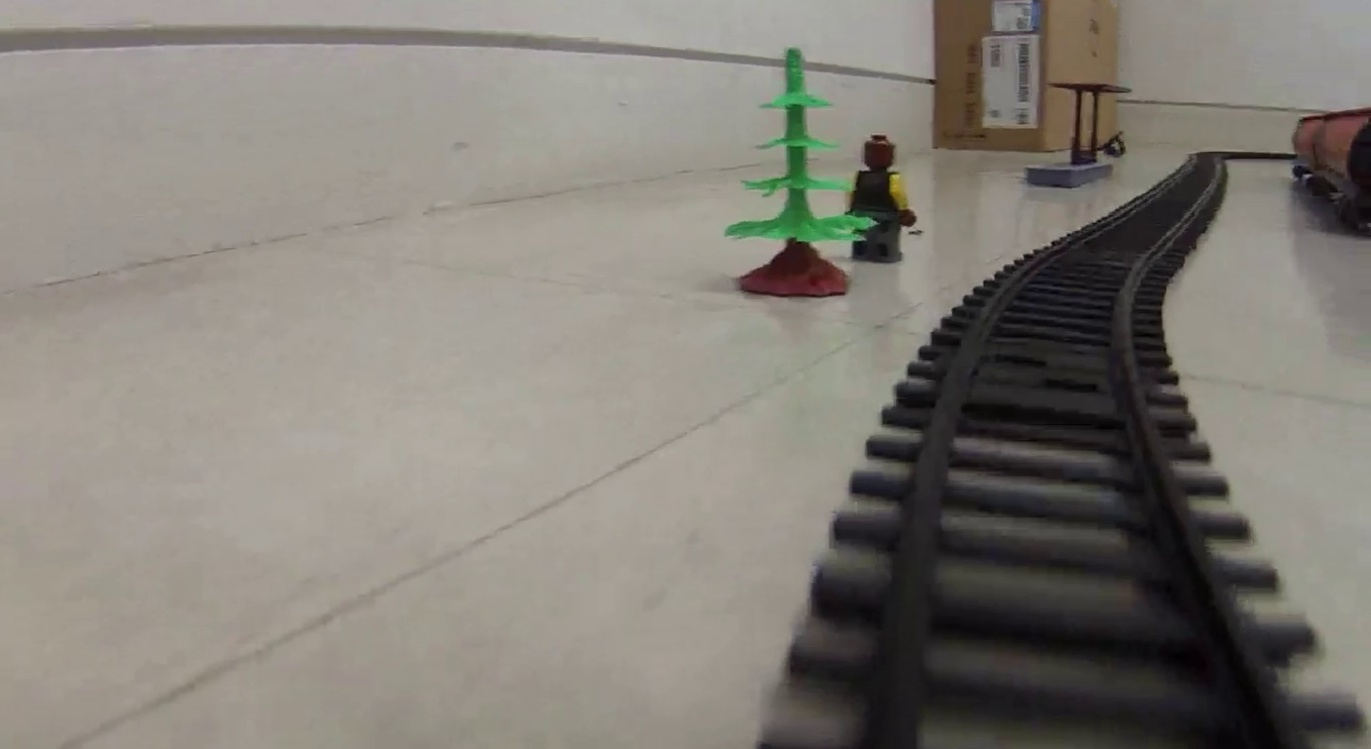people: (845, 134, 917, 263)
tree: (724, 50, 866, 297)
